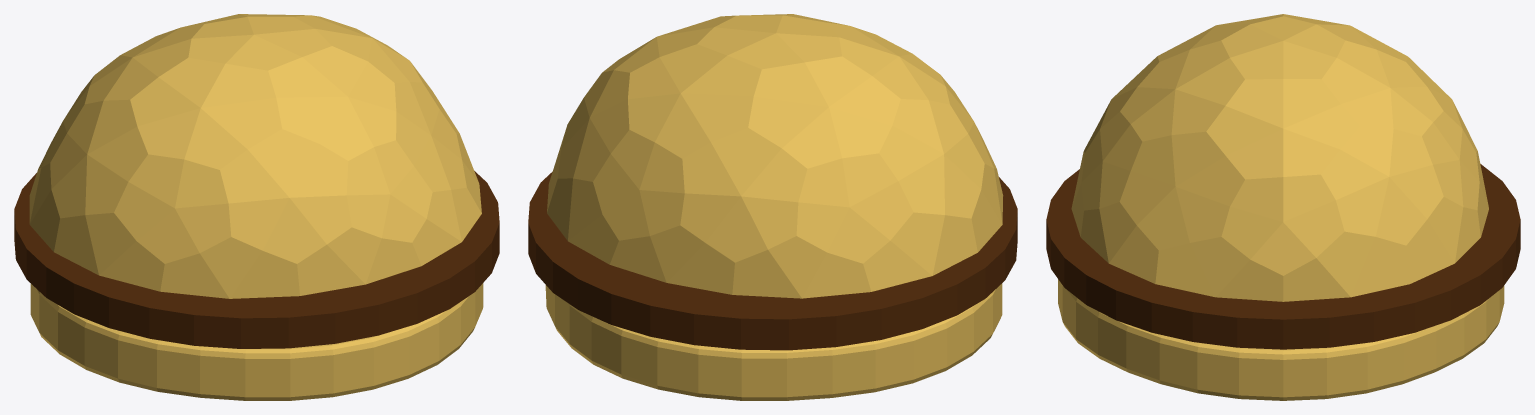
Rendered from burger-transformed.glb.
The picture shows the model from 3 angles, left to right: view 1: azimuth 30°, elevation 25°; view 2: azimuth 150°, elevation 25°; view 3: azimuth 270°, elevation 25°; orthographic projection. The views are drawn at different scales.
Visible parts, largest first — view 1: top_bun, burger; view 2: top_bun, burger; view 3: top_bun, burger.
Boxes of the visible parts, bbox=[...] form: top_bun: bbox=[29, 14, 483, 400]; burger: bbox=[14, 171, 499, 348]; top_bun: bbox=[545, 14, 1003, 400]; burger: bbox=[528, 172, 1017, 350]; top_bun: bbox=[1058, 14, 1504, 400]; burger: bbox=[1046, 164, 1520, 349].
Size of the model in its own units: 2 by 1.24 by 2.
